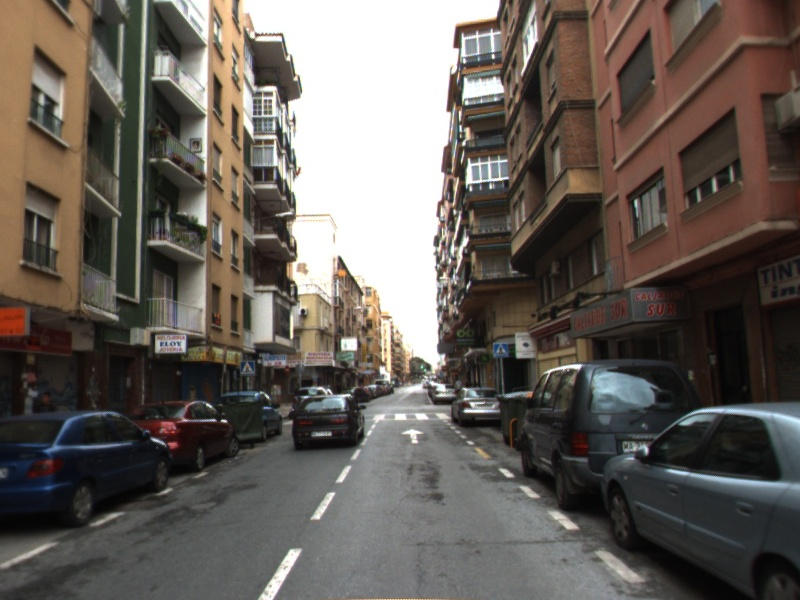STRAIGHT: (399, 426, 427, 445)
